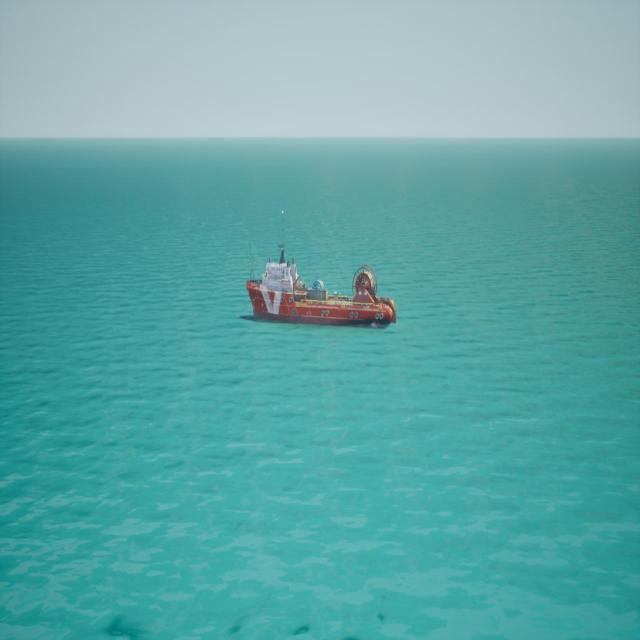tug boat: (243, 213, 398, 331)
